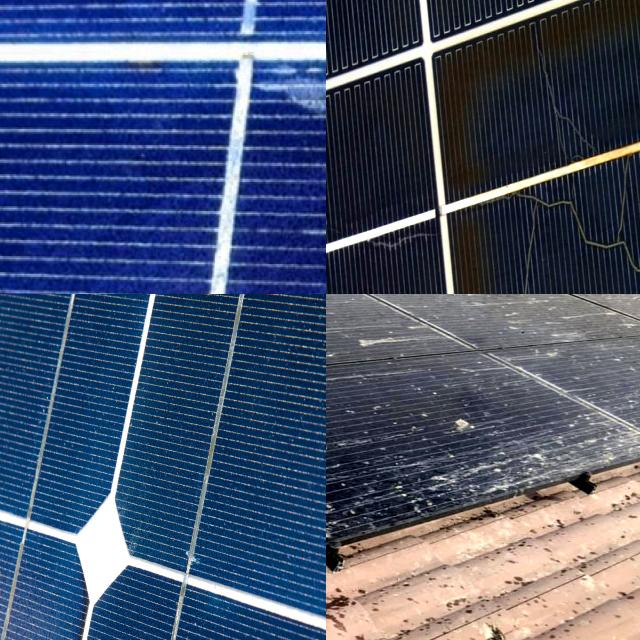bird: (326, 294, 379, 372), (340, 317, 370, 368), (442, 404, 479, 442)
crack: (0, 294, 326, 640)
dust: (326, 415, 438, 555), (427, 294, 611, 372), (326, 294, 435, 325)
shadow: (534, 23, 573, 160), (492, 212, 546, 294), (340, 222, 440, 266)
